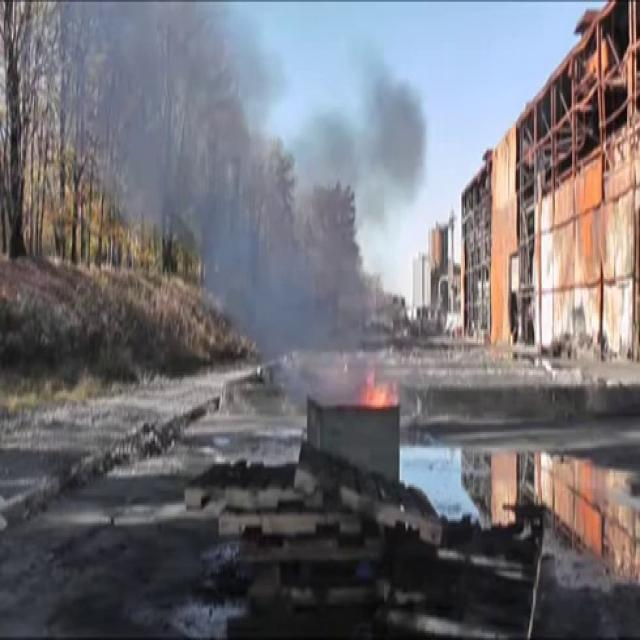Fire: (356, 364, 399, 416)
Smoke: (73, 2, 435, 384)
